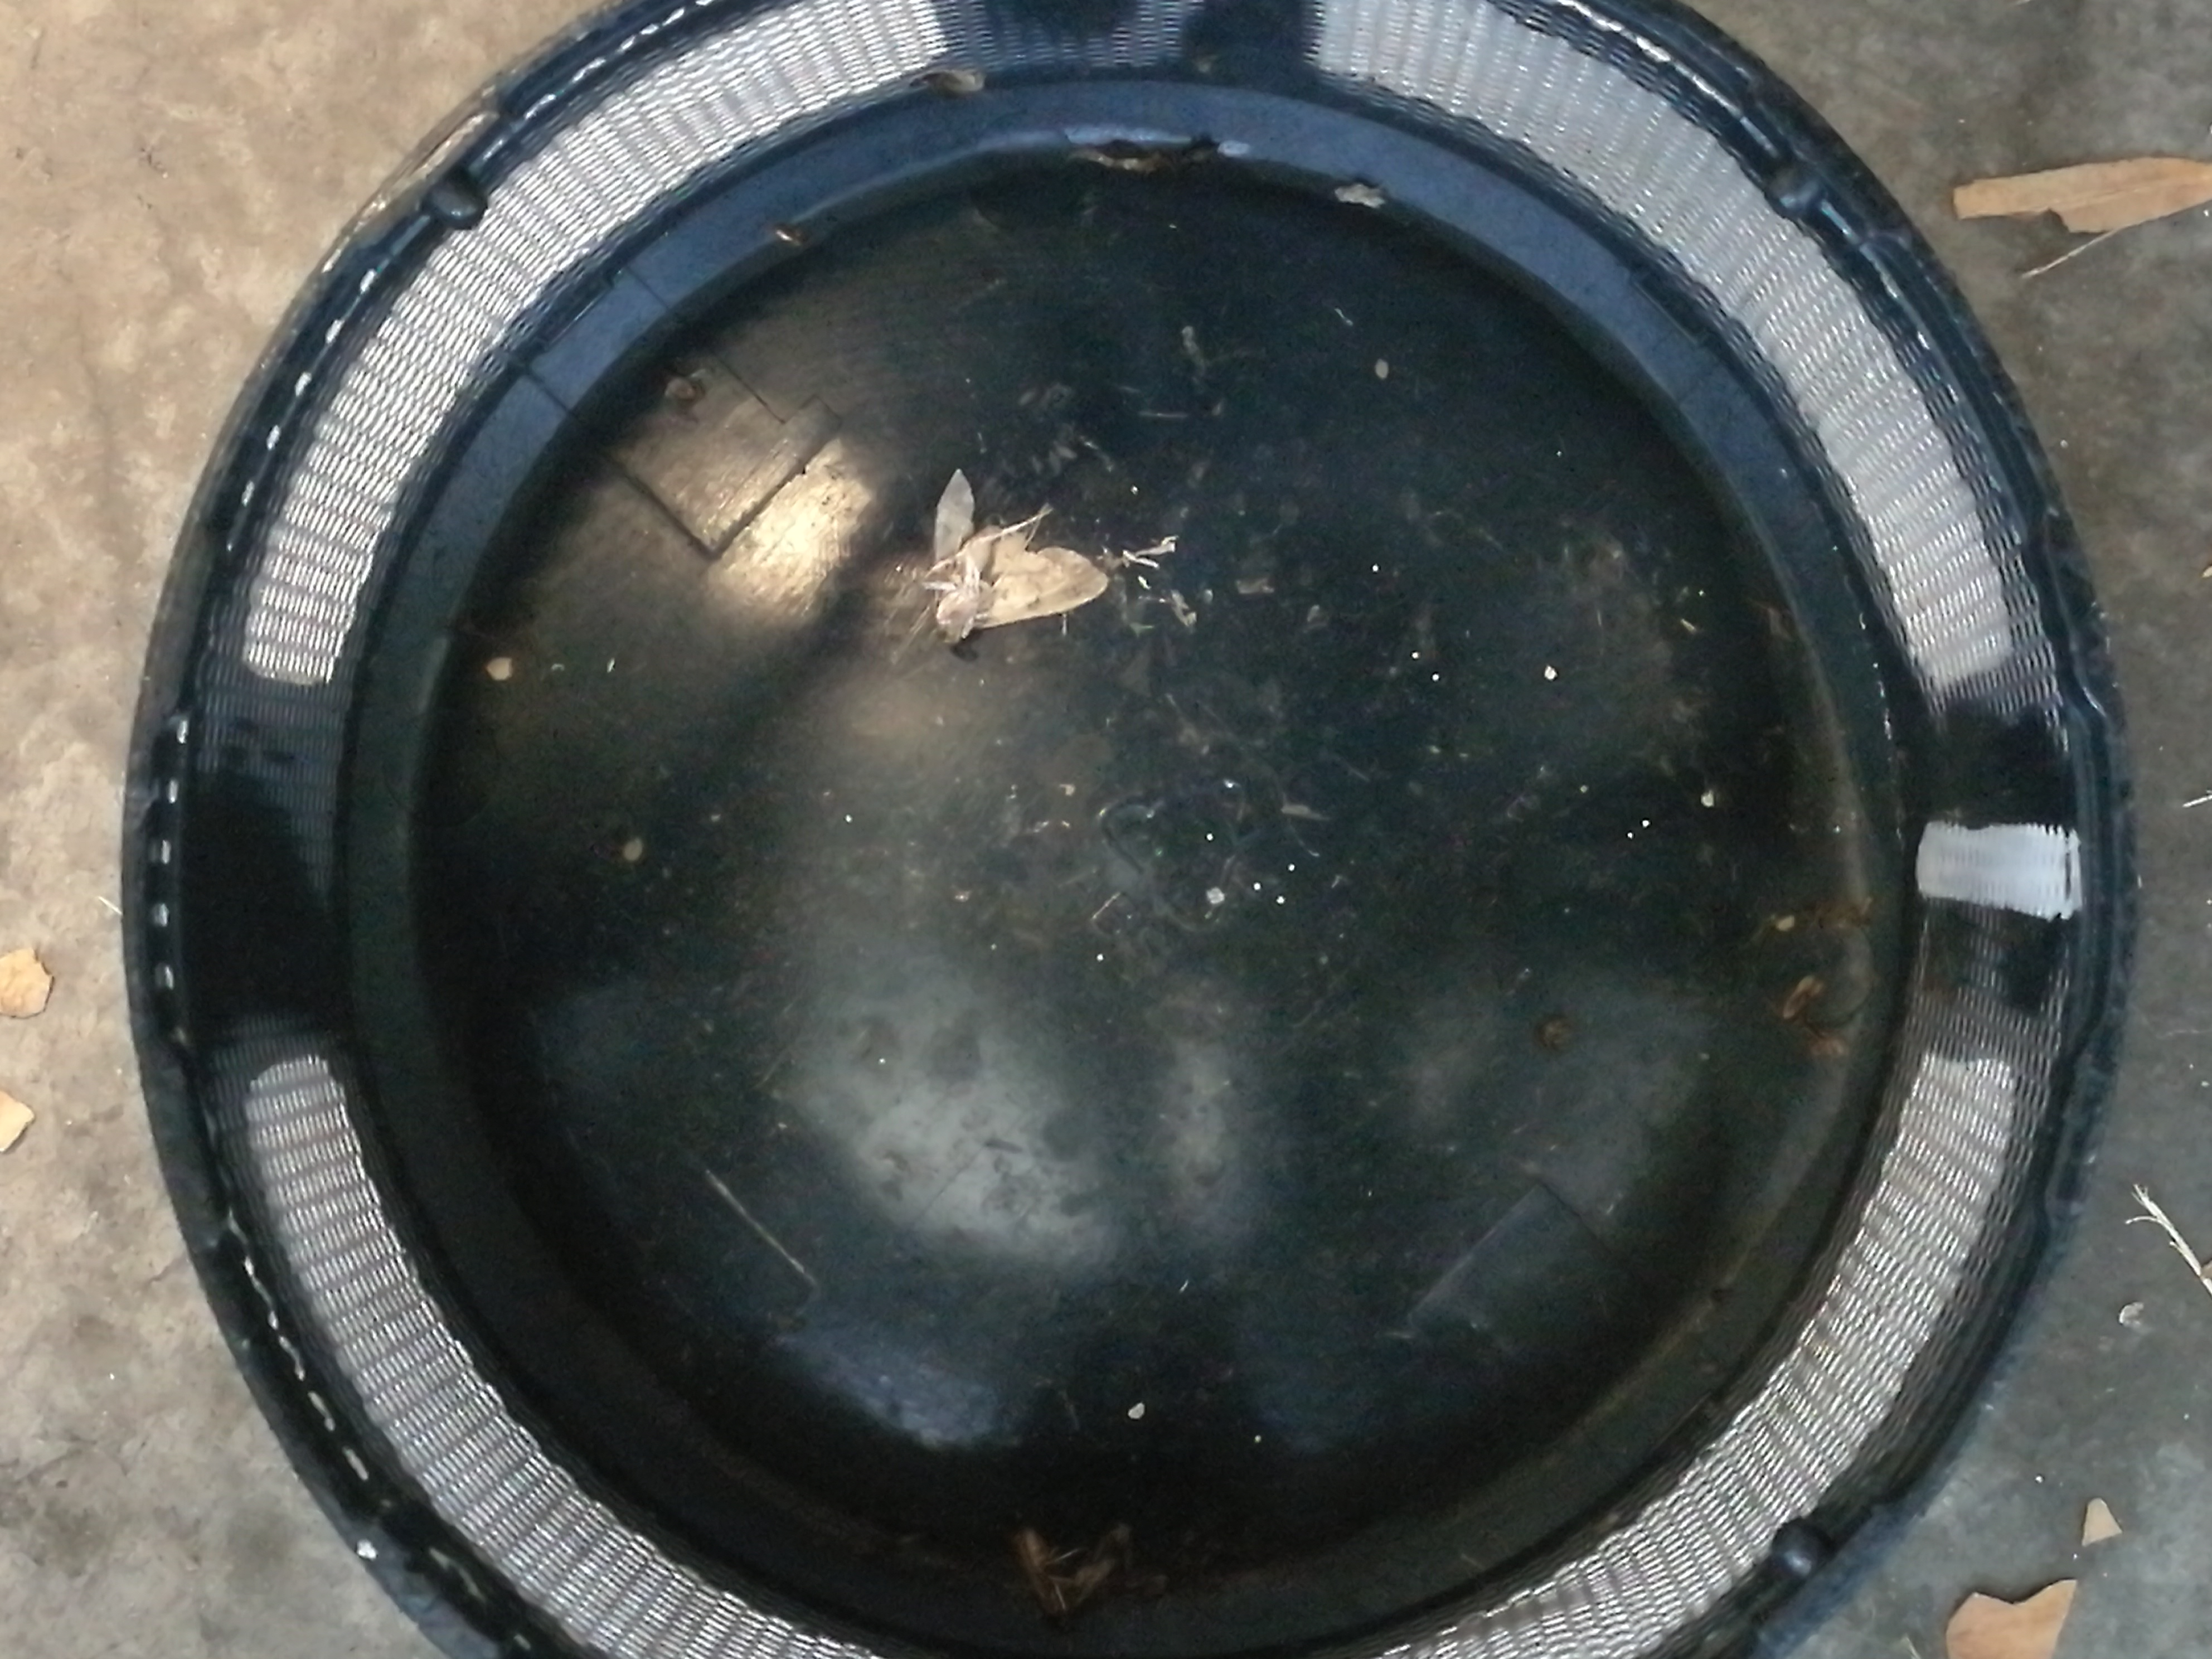moth: (932, 469, 1104, 643), (1014, 1527, 1111, 1621)
